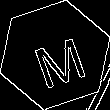M_N: (23, 24, 87, 86)
